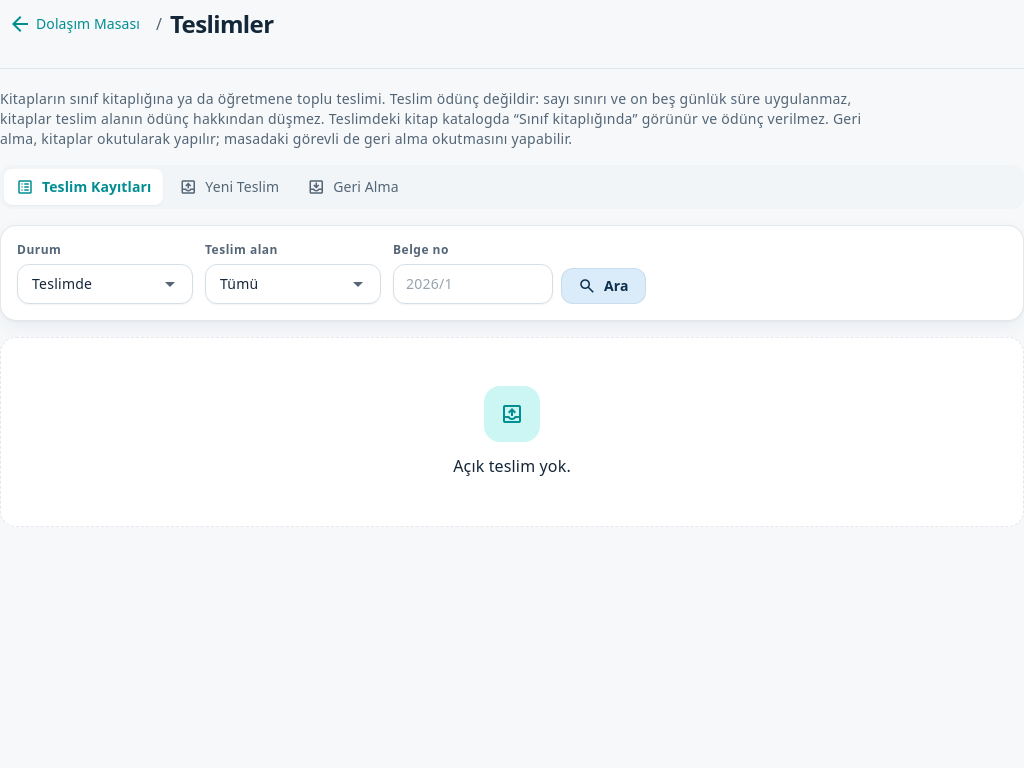
Test: TeslimlerPage › sekmeler arasında geçilir; geri alma sekmesi adresten de açılır
Click the tab "Yeni Teslim": point(229, 187) [167,169,291,205]
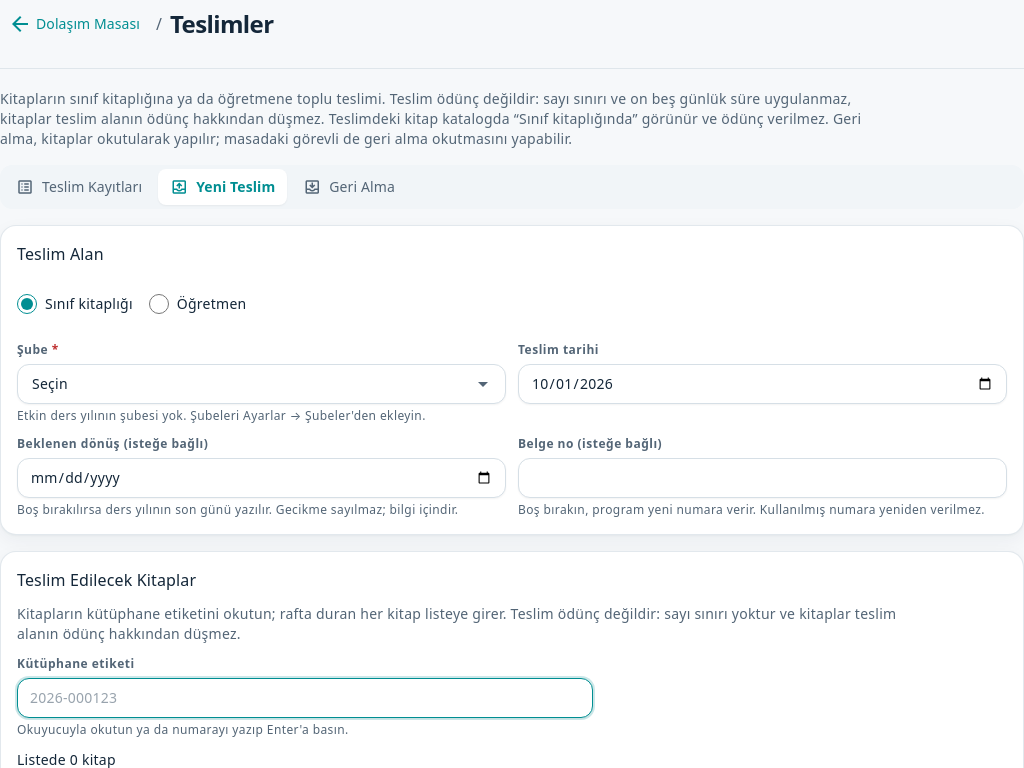
Check: the text "Teslim Edilecek Kitaplar" is shown, box [17,569,196,591]
Check: the text "Etkin ders yılının şubesi yok" is shown, box [17,407,426,424]
Click the tab "Geri Alma": point(349, 187) [291,169,407,205]
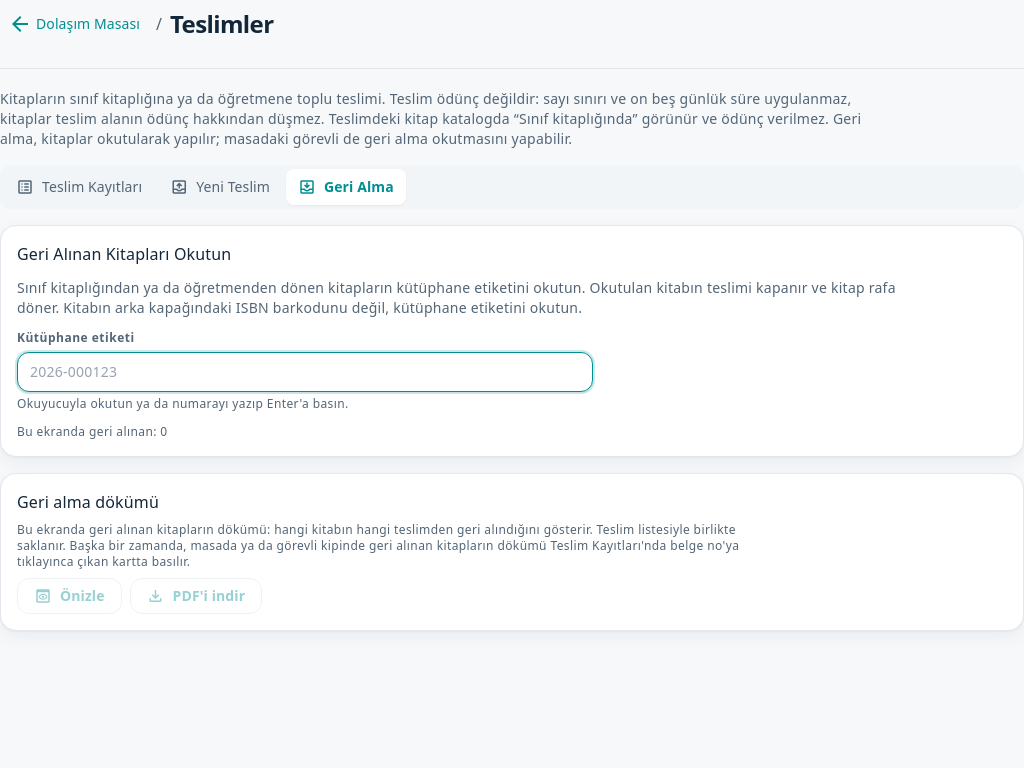
Check: the text "Geri Alınan Kitapları Okutun" is shown, box [17,243,231,265]
